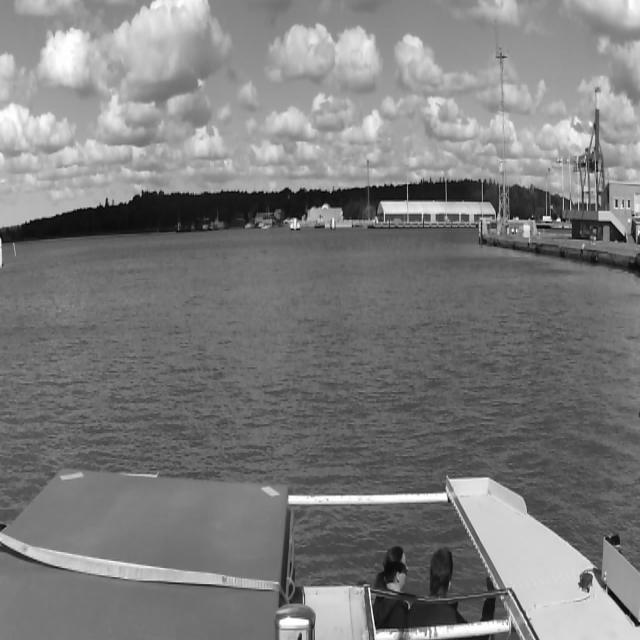buoy: (0, 234, 2, 269), (12, 243, 16, 256)
